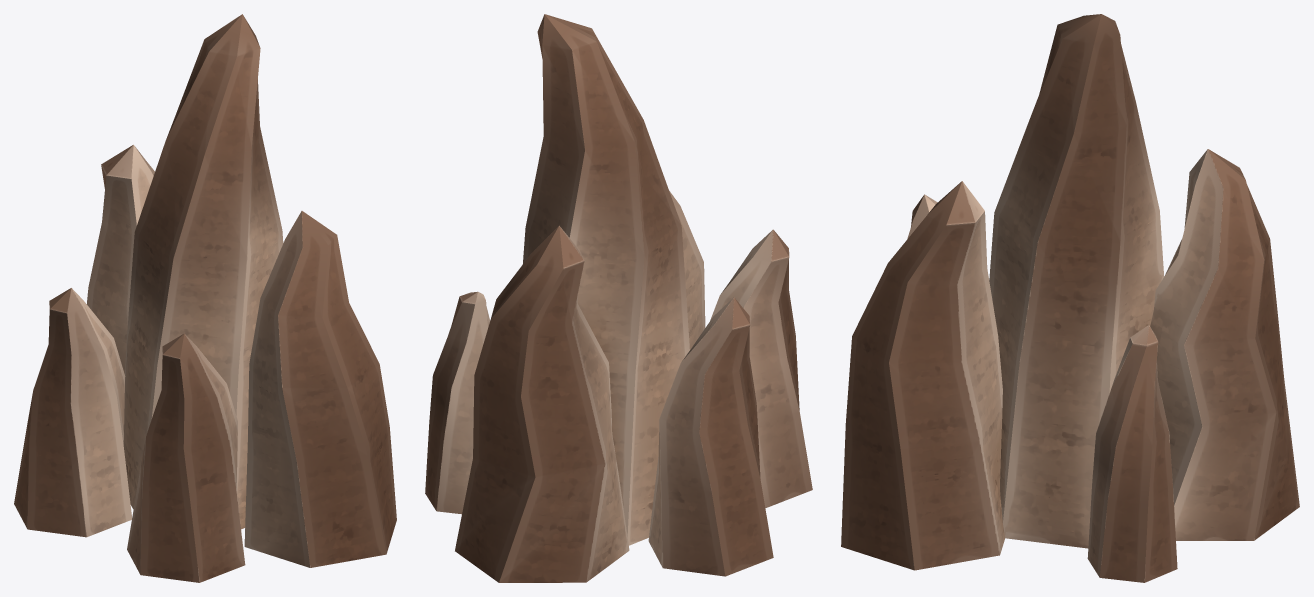
File: EstalacmitaGroup.fbx
3 views of the same model, side by side, from view 1: azimuth 30°, elevation 25°; view 2: azimuth 150°, elevation 25°; view 3: azimuth 270°, elevation 25° (orthographic). The views are drawn at different scales.
Visible parts, largest first — view 1: Cylinder.001; view 2: Cylinder.001; view 3: Cylinder.001.
Boxes of the visible parts, left/top/right/bottom form: Cylinder.001: left=14, top=14, right=396, bottom=582; Cylinder.001: left=425, top=14, right=812, bottom=582; Cylinder.001: left=841, top=14, right=1299, bottom=582.
Bounding box in the file's own units: 422 × 602 × 483.
